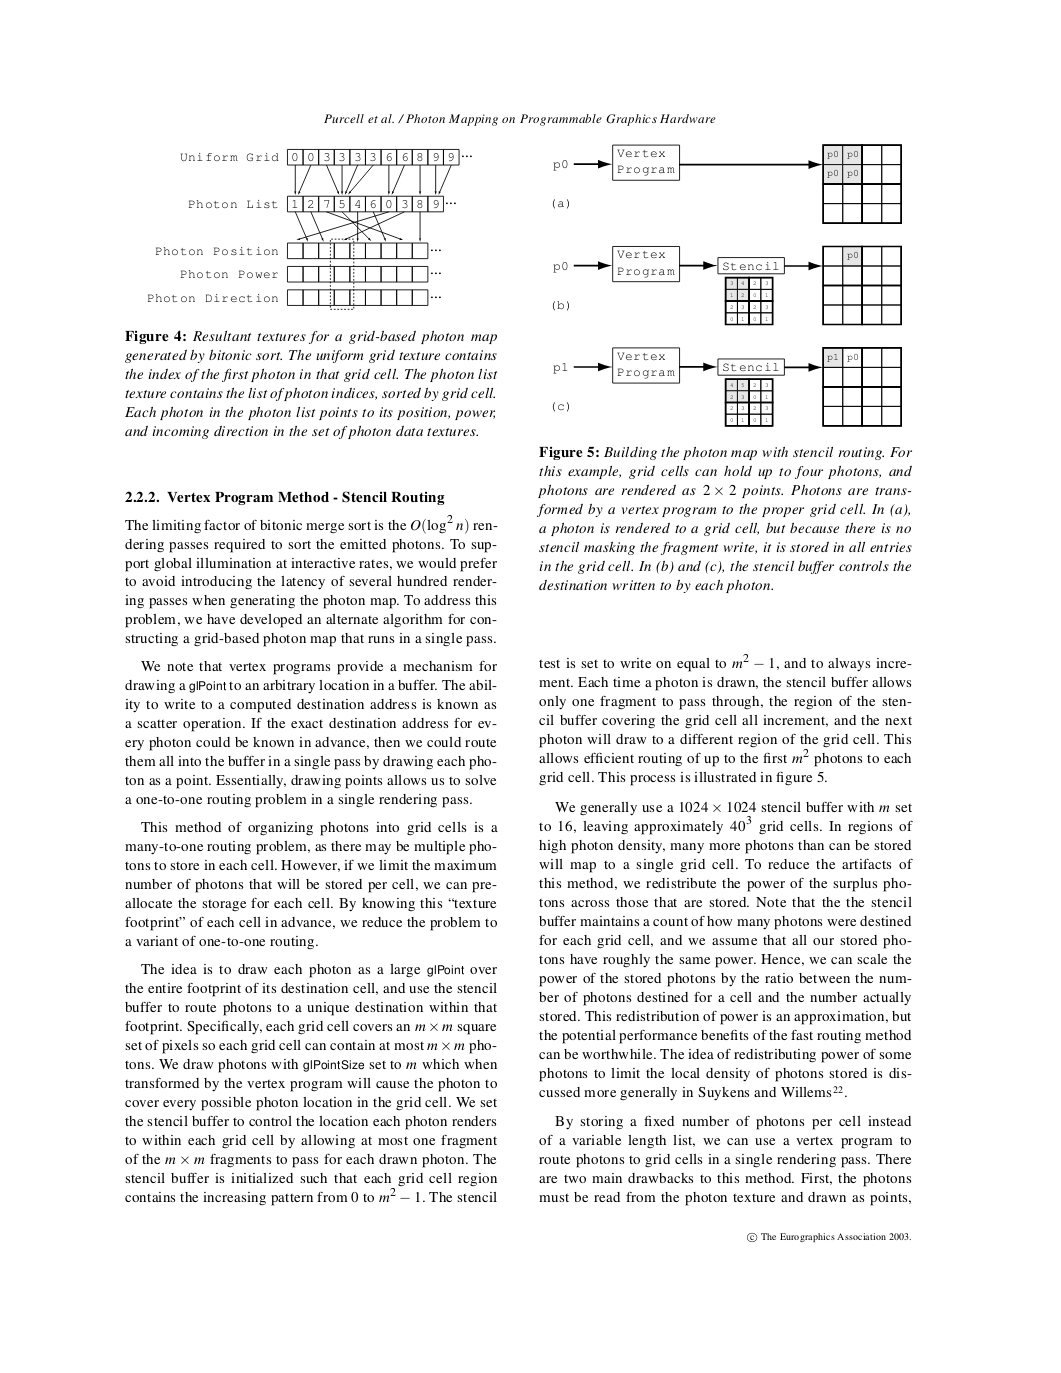figure: (147, 147, 471, 310), (552, 142, 901, 224), (552, 244, 901, 327), (552, 345, 901, 427)
